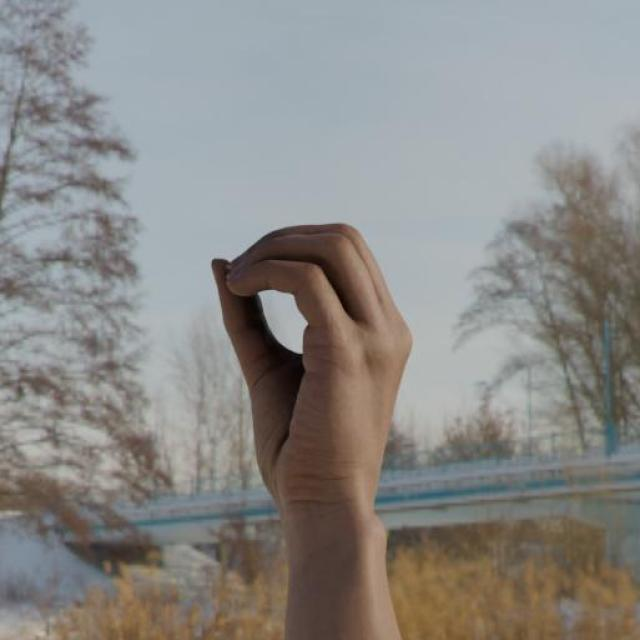O: (160, 201, 430, 558)
